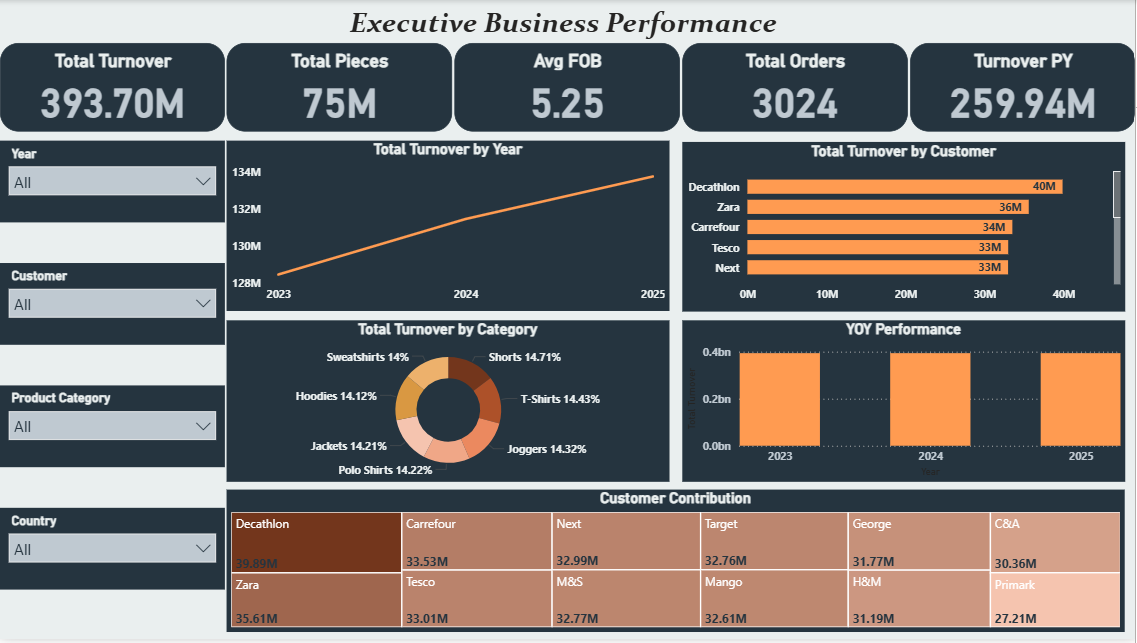

What the dashboard file says about the page in this screenshot:
{"tool":"powerbi","page":{"name":"Executive summary","canvas":[1280,720],"ordinal":0},"visuals":[{"type":"textbox","box":[248.7,0,781.3,51.7],"z":0},{"type":"card","title":"Total Turnover","fields":{"Values":["Measurs.Total Turnover"]},"box":[0,48,253.7,99.7],"z":1000},{"type":"card","title":"Total Pieces","fields":{"Values":["Measurs.Total Pieces"]},"box":[256,47.9,254,100],"z":2000},{"type":"card","title":"Avg FOB","fields":{"Values":["Measurs.Avg FOB"]},"box":[512.4,47.9,254,100],"z":3000},{"type":"card","title":"Total Orders","fields":{"Values":["Measurs.Total Orders"]},"box":[768.7,47.9,254,100],"z":4000},{"type":"card","title":"Turnover PY","fields":{"Values":["Measurs.Turnover PY"]},"box":[1025.1,47.9,254,100],"z":5000},{"type":"slicer","fields":{"Values":["Purchase_Orders.Year"]},"box":[0,159,253.7,92.1],"z":6000},{"type":"slicer","fields":{"Values":["Purchase_Orders.Customer"]},"box":[0,296.6,253.7,92.1],"z":7000},{"type":"slicer","fields":{"Values":["Purchase_Orders.Product Category"]},"box":[0,434.2,253.7,92.1],"z":8000},{"type":"slicer","fields":{"Values":["Purchase_Orders.Country"]},"box":[0,571.8,253.7,92.1],"z":9000},{"type":"lineChart","fields":{"Y":["Measurs.Total Turnover"],"Category":["Purchase_Orders.Year"]},"box":[255.9,159.1,499,192.2],"z":10000},{"type":"clusteredBarChart","fields":{"Y":["Measurs.Total Turnover"],"Category":["Purchase_Orders.Customer"]},"box":[768.9,160.4,499,190.9],"z":11000},{"type":"donutChart","title":"Total Turnover by Category","fields":{"Y":["Measurs.Total Turnover"],"Category":["Purchase_Orders.Product Category"]},"box":[255.9,360.3,499,182],"z":12000},{"type":"clusteredColumnChart","title":"YOY Performance","fields":{"Y":["Measurs.Total Turnover"],"Category":["Purchase_Order_Detail.Year"]},"box":[768.9,360.3,499,182],"z":13000},{"type":"treemap","title":"Customer Contribution","fields":{"Values":["Measurs.Total Turnover"],"Group":["Purchase_Orders.Customer"]},"box":[255.9,551.2,1012,160.4],"z":14000}]}

Visuals, with their boxes in screenshot pixels (x1, y1, x2, y2), scaled from the page's 1280x720 canvas onto the 1137x643 screenshot:
textbox: left=221, top=0, right=915, bottom=46
"Total Turnover" card: left=0, top=43, right=225, bottom=132
"Total Pieces" card: left=227, top=43, right=453, bottom=132
"Avg FOB" card: left=455, top=43, right=681, bottom=132
"Total Orders" card: left=683, top=43, right=908, bottom=132
"Turnover PY" card: left=911, top=43, right=1136, bottom=132
slicer - Purchase_Orders.Year: left=0, top=142, right=225, bottom=224
slicer - Purchase_Orders.Customer: left=0, top=265, right=225, bottom=347
slicer - Purchase_Orders.Product Category: left=0, top=388, right=225, bottom=470
slicer - Purchase_Orders.Country: left=0, top=511, right=225, bottom=593
lineChart - Measurs.Total Turnover x Purchase_Orders.Year: left=227, top=142, right=671, bottom=314
clusteredBarChart - Measurs.Total Turnover x Purchase_Orders.Customer: left=683, top=143, right=1126, bottom=314
"Total Turnover by Category" donutChart: left=227, top=322, right=671, bottom=484
"YOY Performance" clusteredColumnChart: left=683, top=322, right=1126, bottom=484
"Customer Contribution" treemap: left=227, top=492, right=1126, bottom=635
